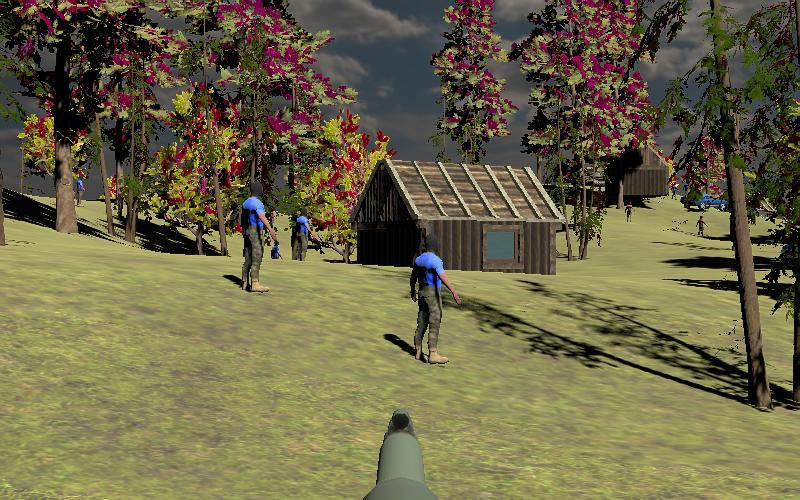Human: (409, 232, 462, 365), (240, 179, 275, 295), (291, 207, 313, 265)
